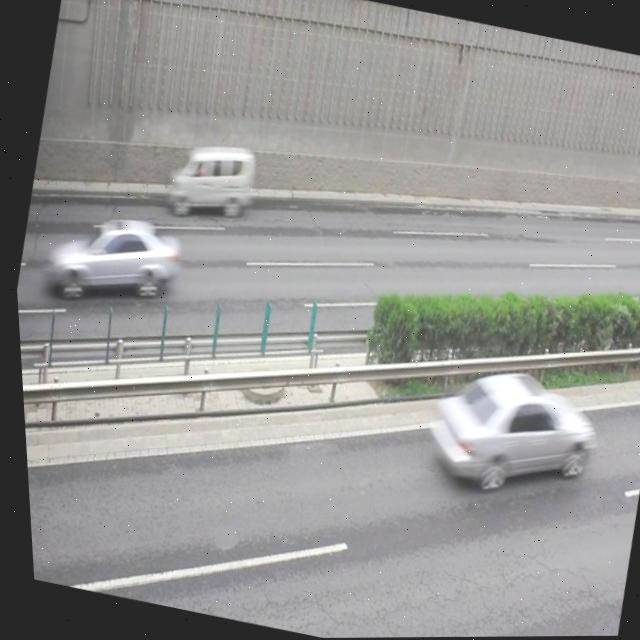car: (411, 355, 600, 506), (52, 203, 184, 311)
truck: (159, 134, 259, 224)
